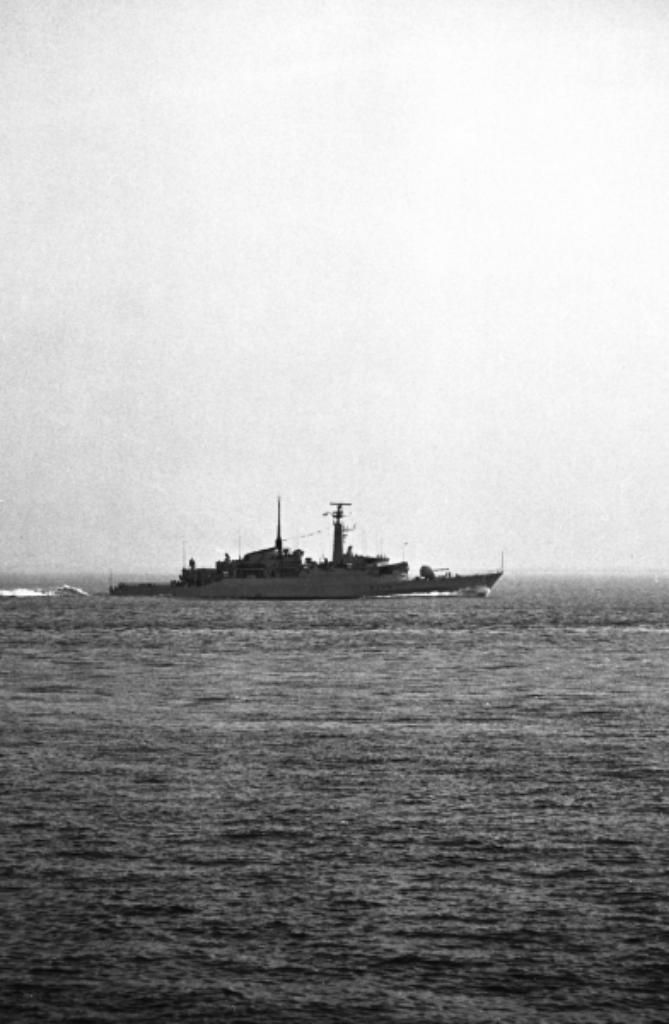Warship: (101, 478, 517, 604)
